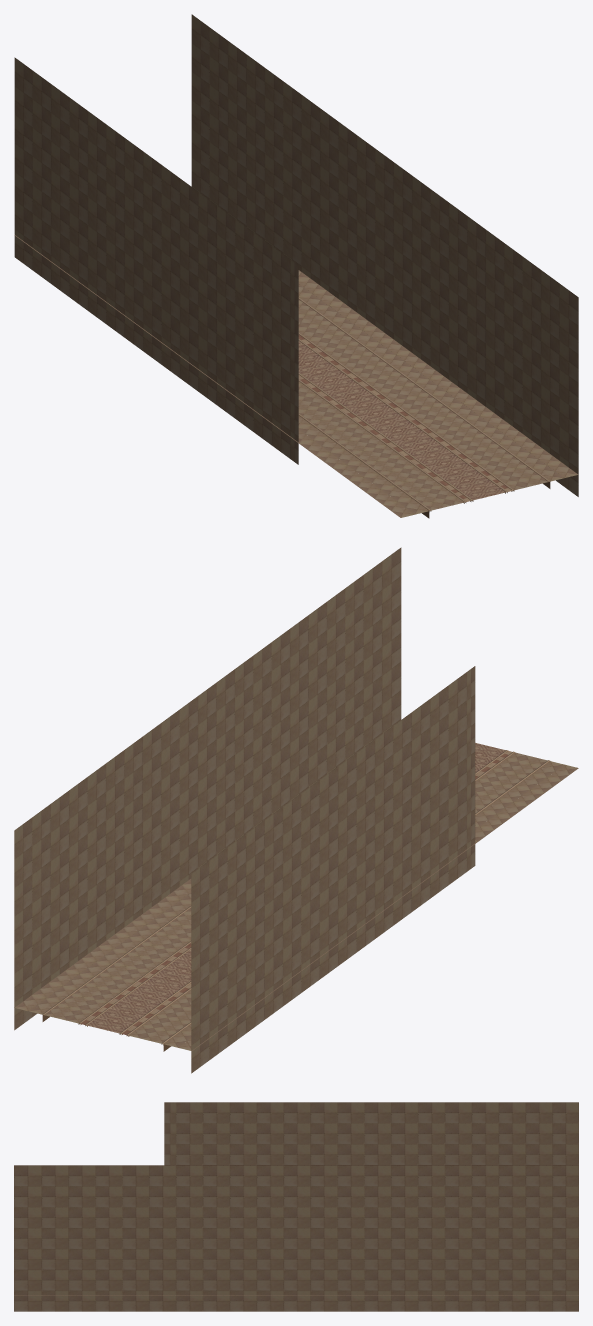
Rendered from qiangti2.FBX.
The picture shows the model from 3 angles, top to bottom: view 1: azimuth 30°, elevation 25°; view 2: azimuth 150°, elevation 25°; view 3: azimuth 270°, elevation 25°; orthographic projection. The views are drawn at different scales.
Parts seen in each view (by area): view 1: Object046; view 2: Object046; view 3: Object046.
Boxes of the visible parts, left/top/right/bottom form: Object046: left=14, top=14, right=578, bottom=518; Object046: left=14, top=547, right=578, bottom=1073; Object046: left=14, top=1102, right=578, bottom=1311.
Bounding box in the file's own units: 4600 × 4935 × 17298.
